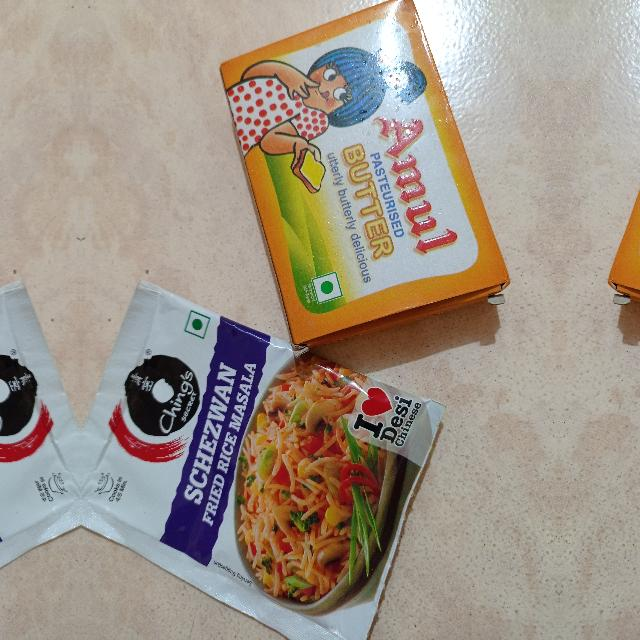Amul Butter: (210, 0, 510, 342)
Ching-s secret schezwan fried masala: (81, 343, 456, 639), (0, 343, 78, 639)
